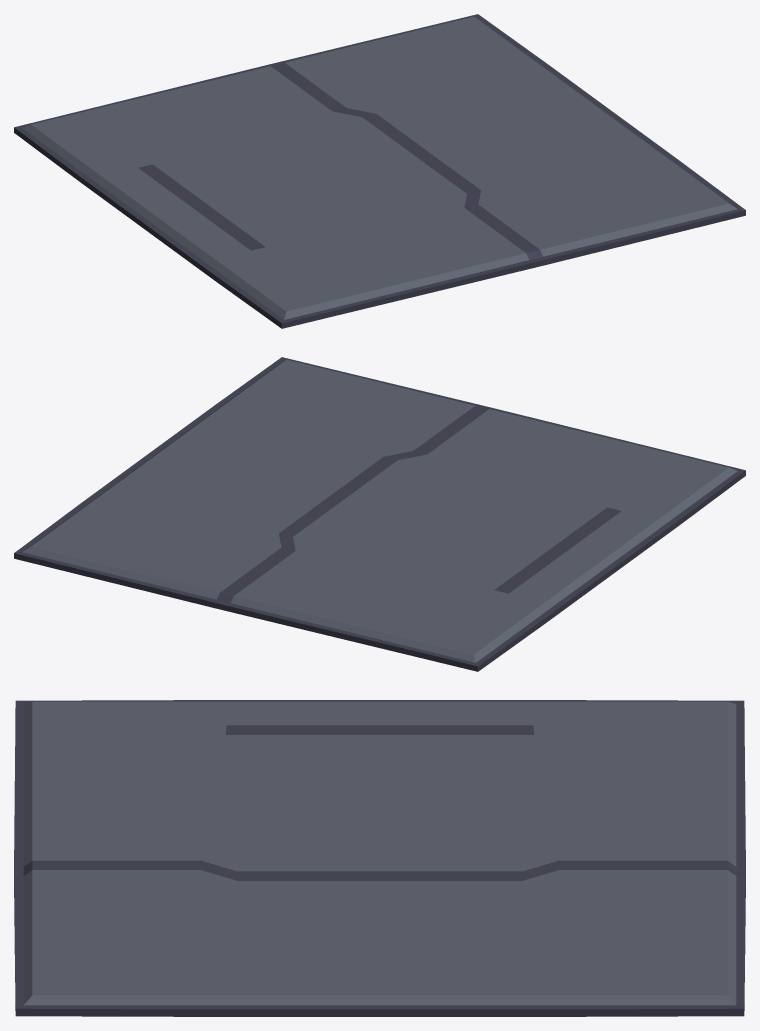
File: trapC.fbx
3 renders of one model, top to bottom at view 1: azimuth 30°, elevation 25°; view 2: azimuth 150°, elevation 25°; view 3: azimuth 270°, elevation 25°, orthographic. The views are drawn at different scales.
Parts seen in each view (by area): view 1: trapC; view 2: trapC; view 3: trapC.
Part boxes in pixels (box(x1,y1,x2,y2)): trapC: box(14, 14, 745, 328); trapC: box(14, 357, 745, 671); trapC: box(14, 700, 745, 1016).
Bounding box in the file's own units: 145 × 3.02 × 145.
